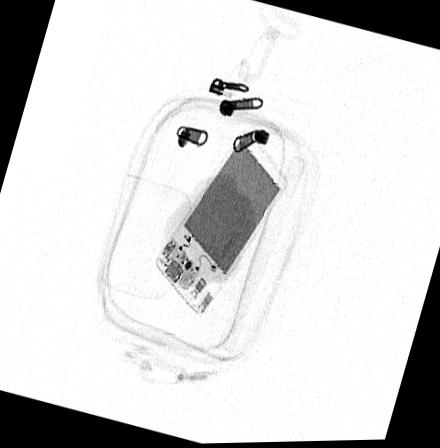Powerbank: (156, 129, 289, 315)
